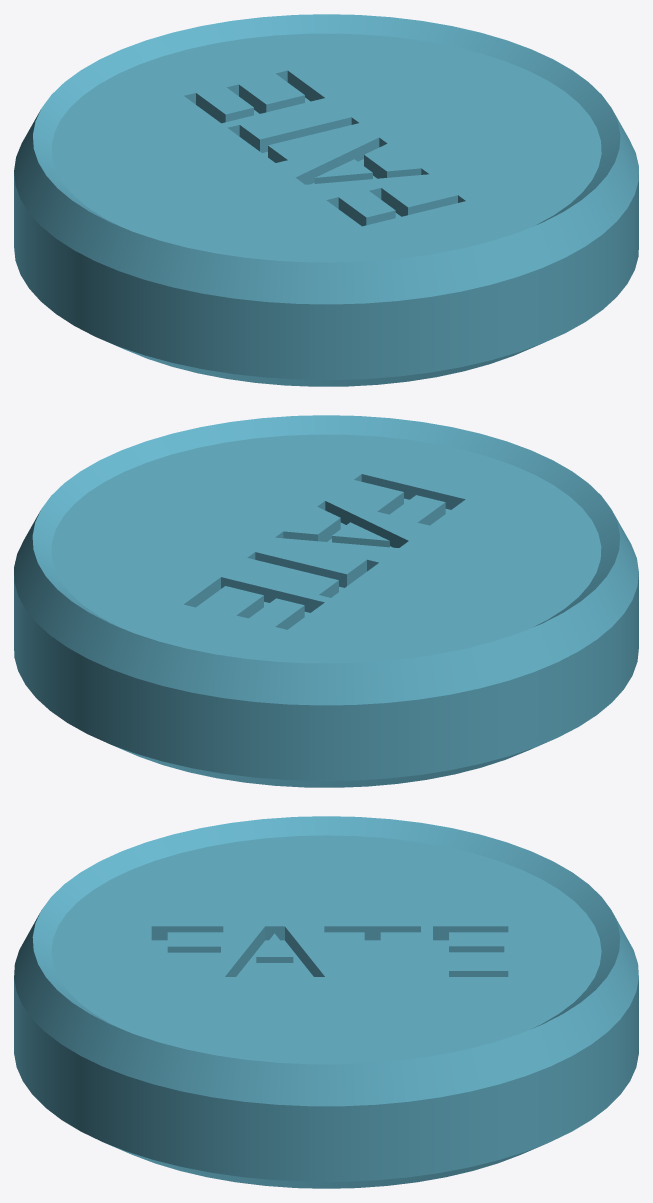
File: Piece V1 Moonstone.glb
3 views of the same model, one above another, from view 1: azimuth 30°, elevation 25°; view 2: azimuth 150°, elevation 25°; view 3: azimuth 270°, elevation 25° (orthographic).
Parts seen in each view (by area): view 1: Solid1; view 2: Solid1; view 3: Solid1.
Boxes of the visible parts, x1,y1,x2,y2 form: Solid1: [14, 14, 638, 386]; Solid1: [14, 415, 638, 787]; Solid1: [14, 816, 638, 1188].
Bounding box in the file's own units: 0.0317 × 0.00741 × 0.0317.
